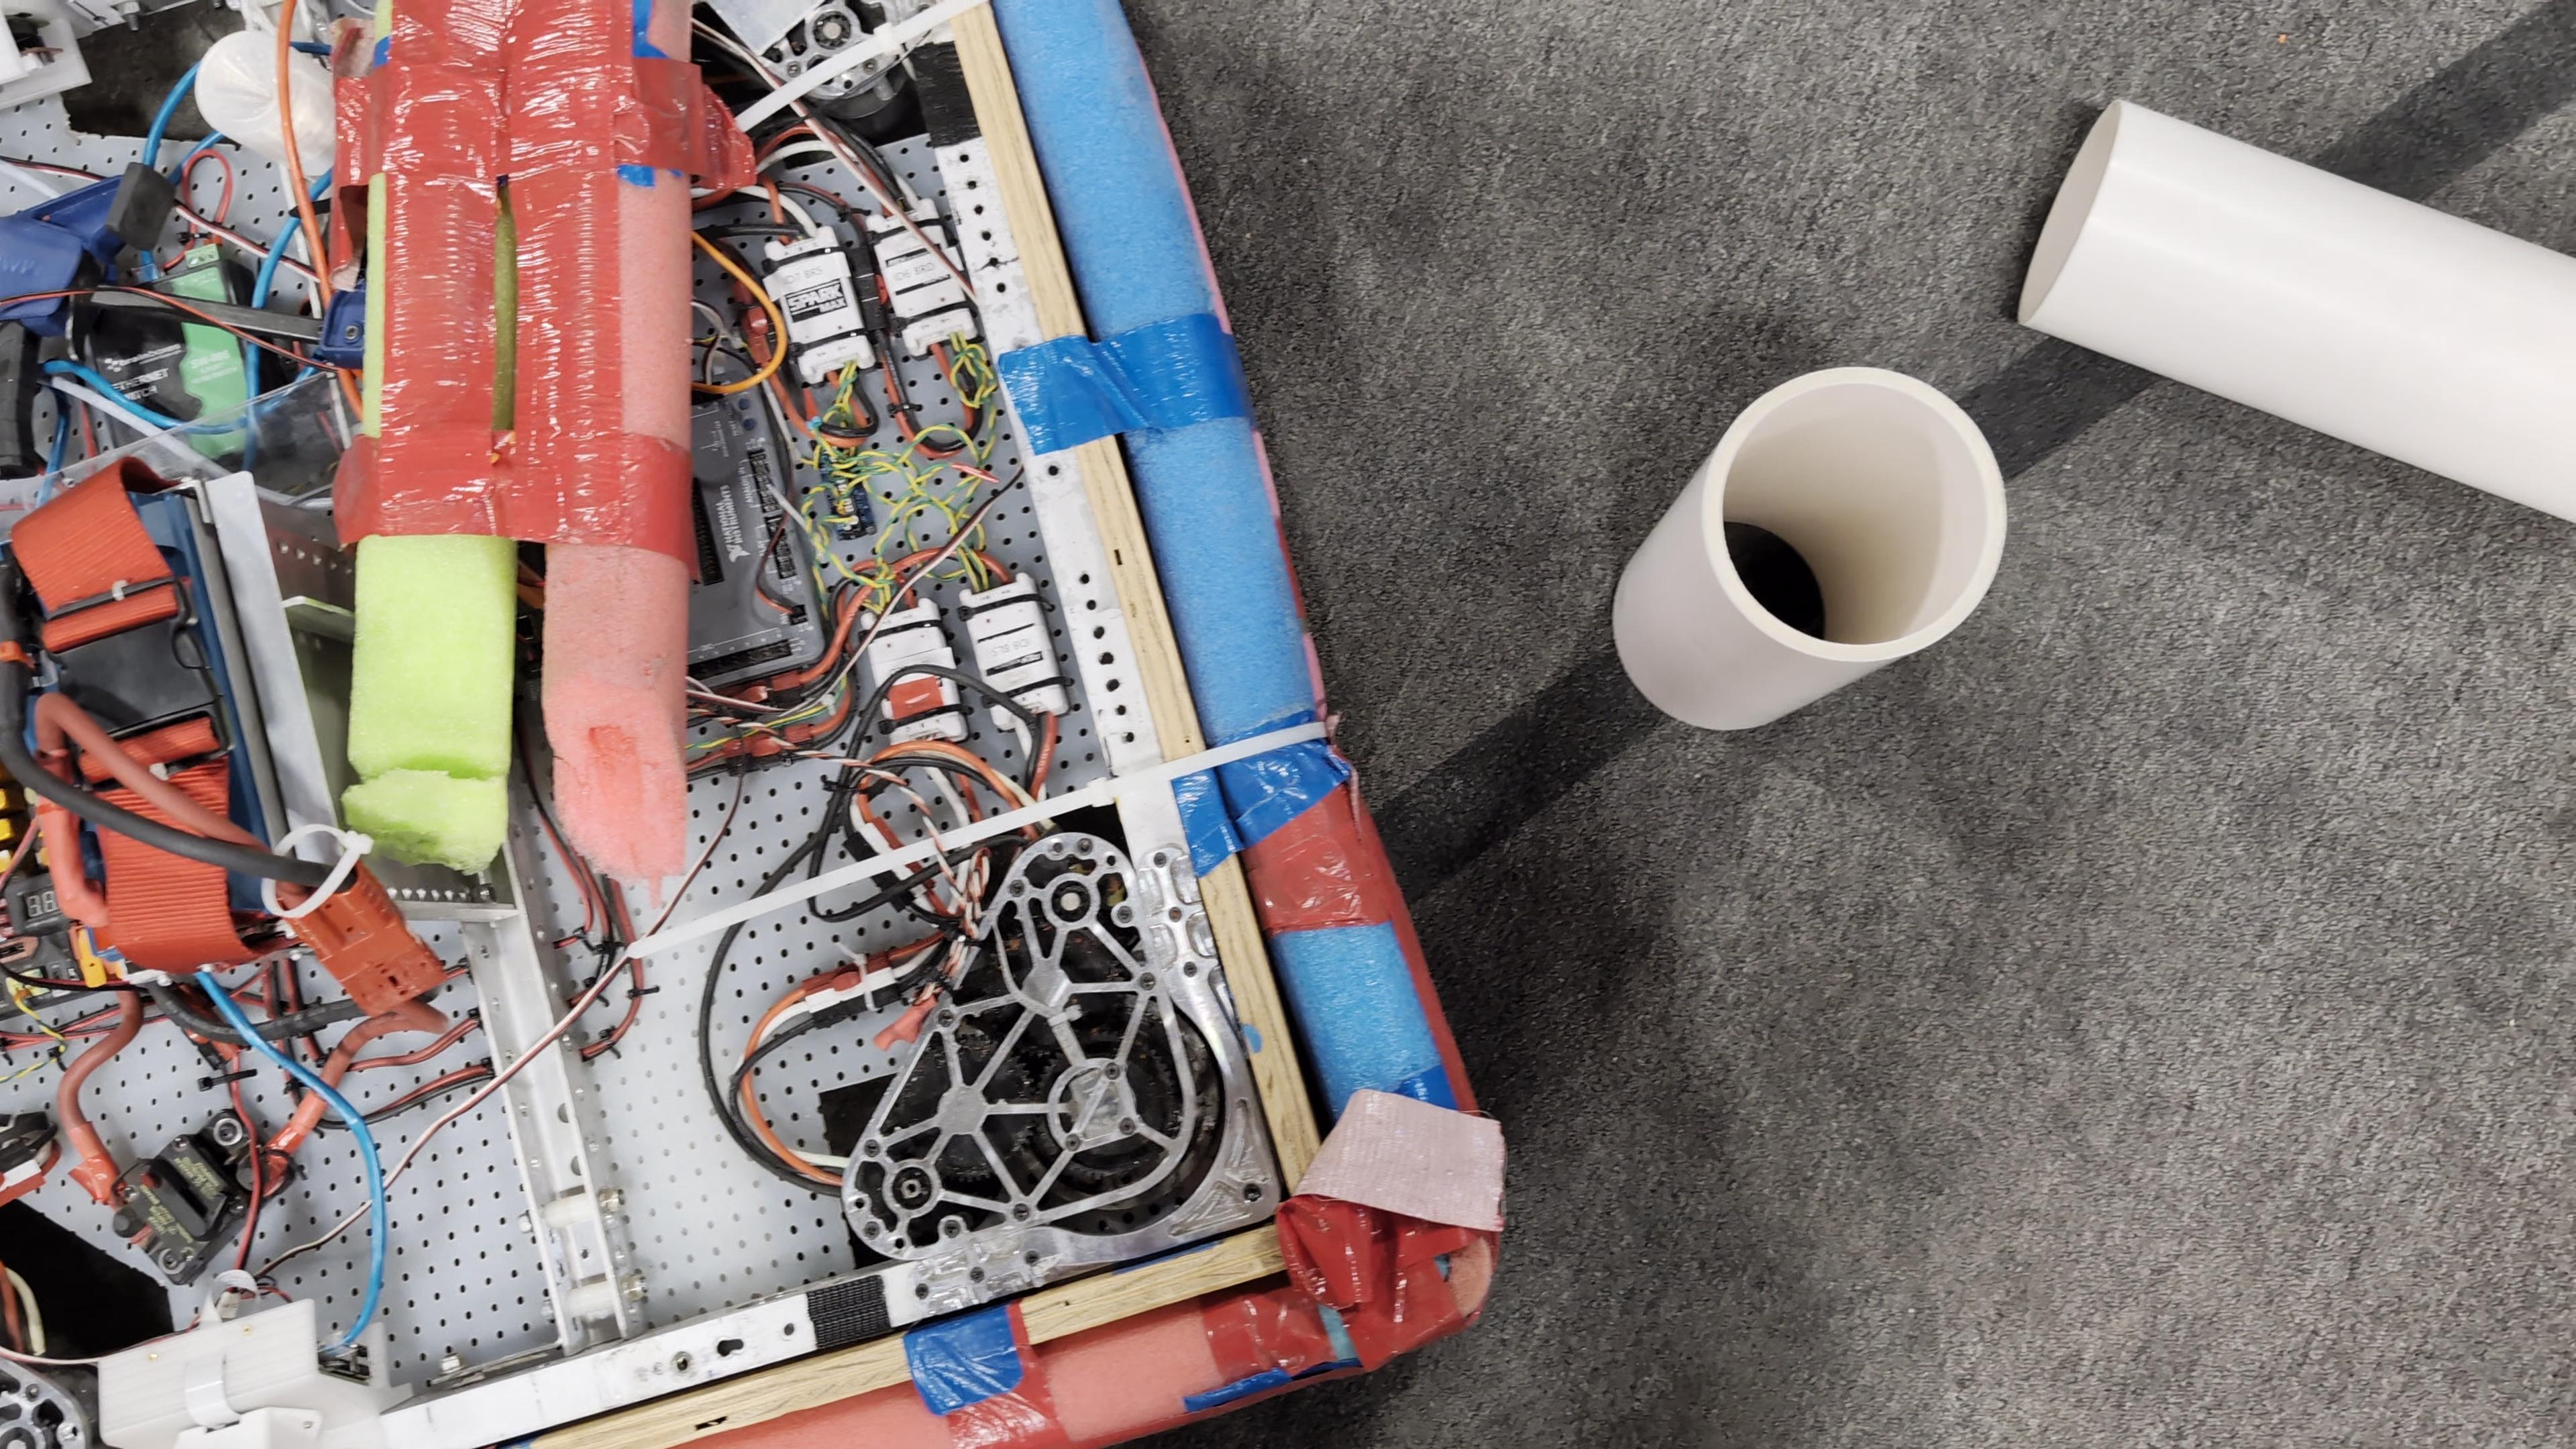coral: (2019, 92, 2576, 545), (1615, 366, 2006, 731)
